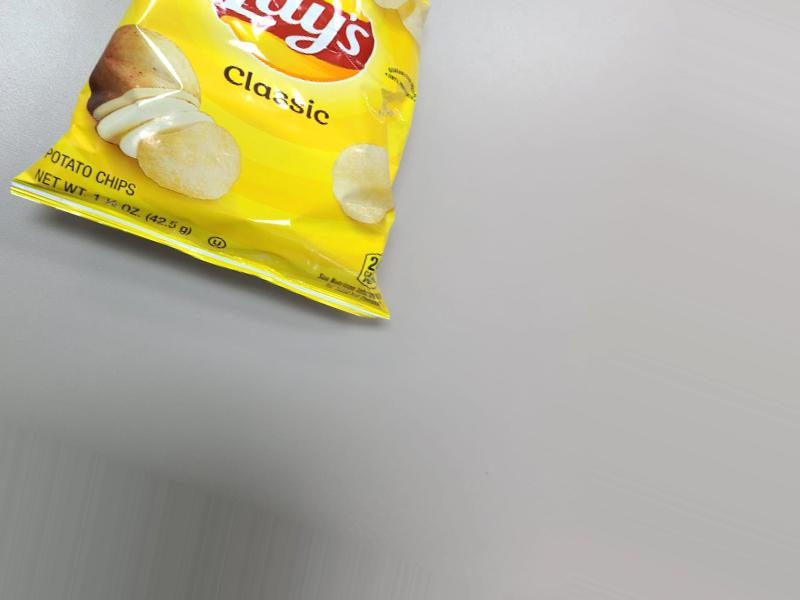lays: (27, 18, 410, 310)
